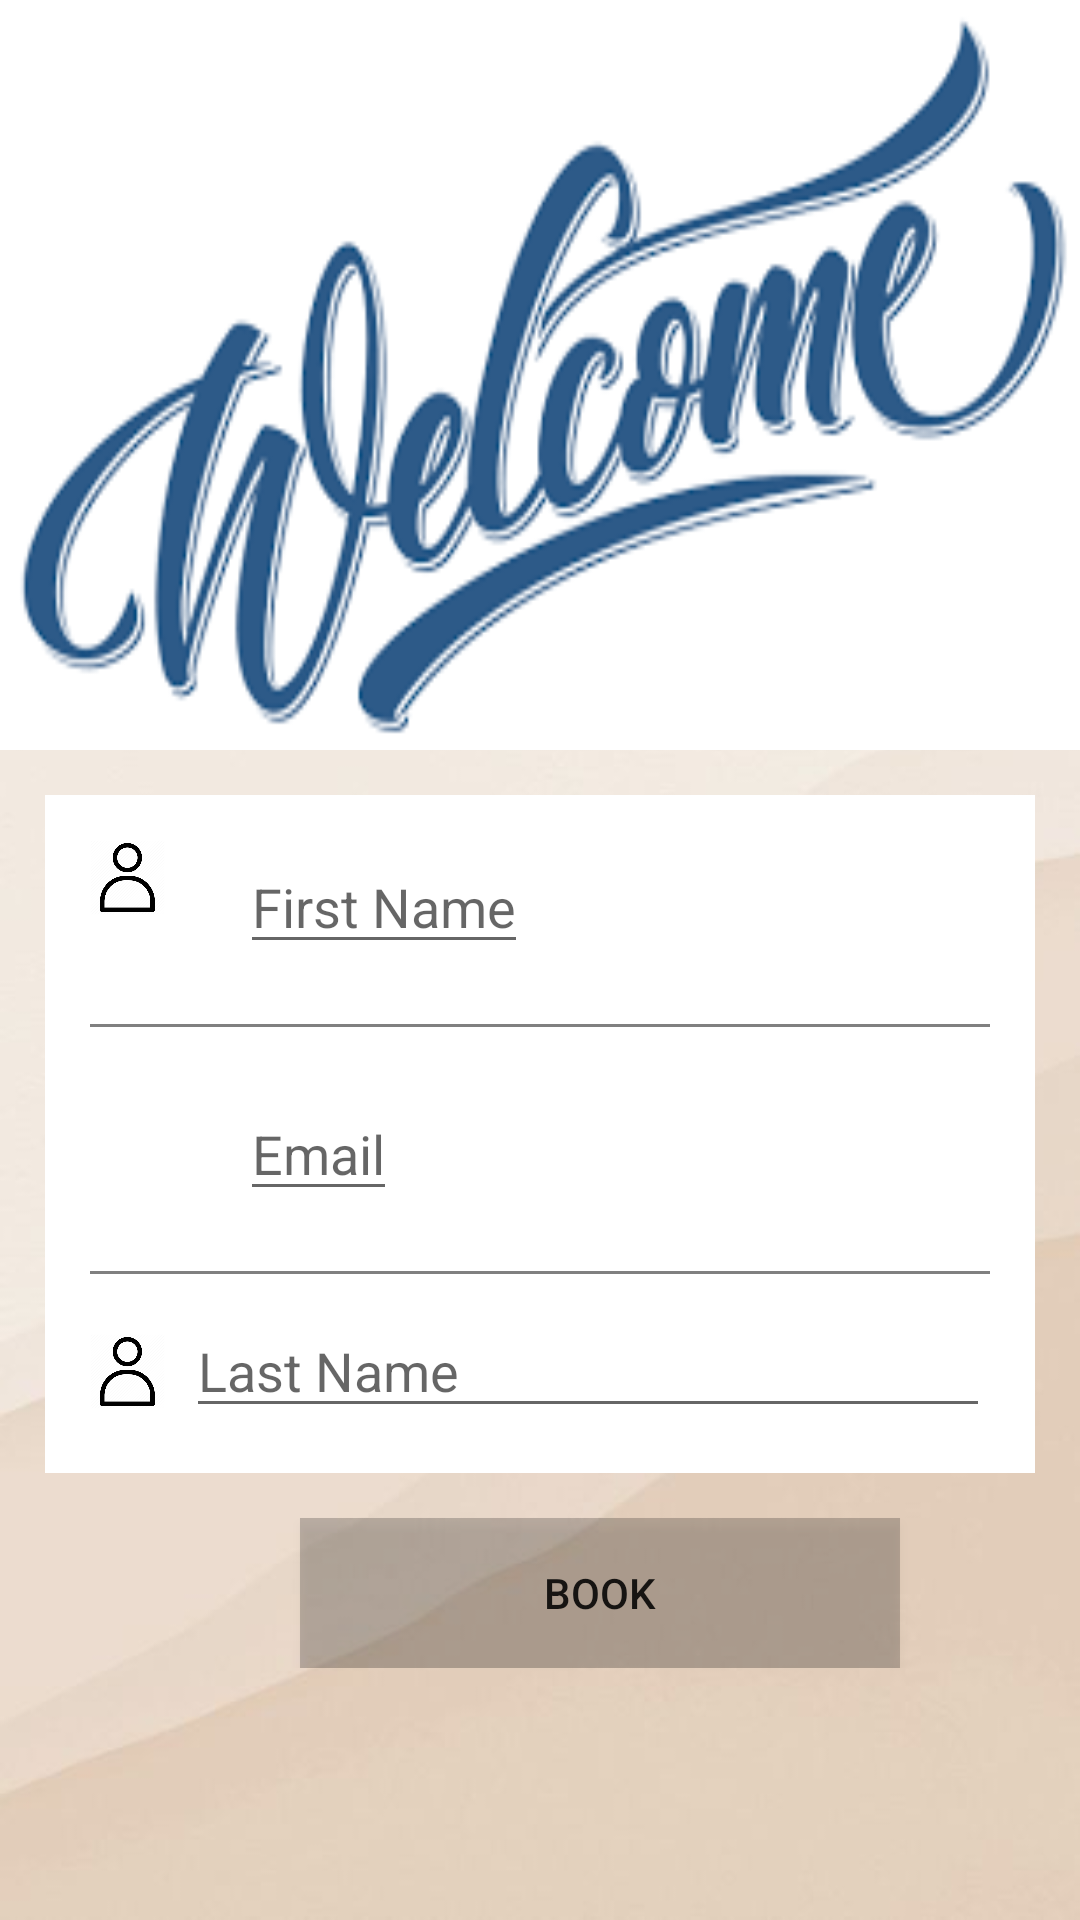

Screen size 1080x1920. Icon name, then its box in pixels as [x1=x1, y1=y1, x2=x2, y2=y2]:
profile: [x1=100, y1=843, x2=155, y2=912], [x1=100, y1=1337, x2=155, y2=1406]
